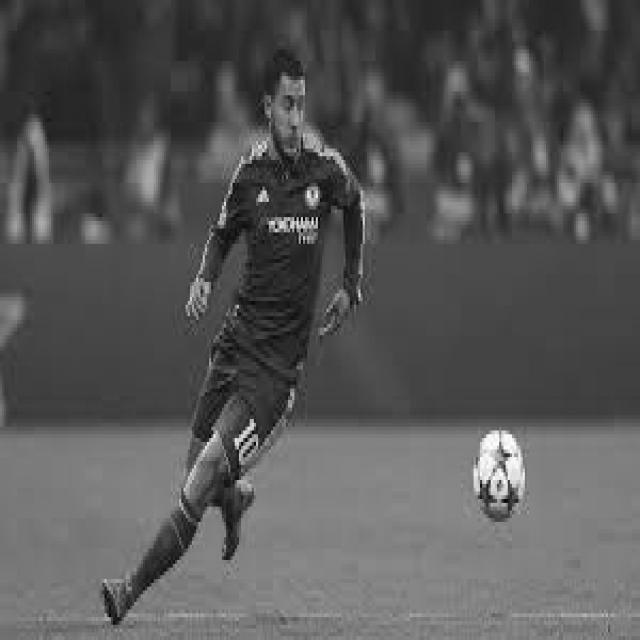football: (474, 426, 536, 520)
